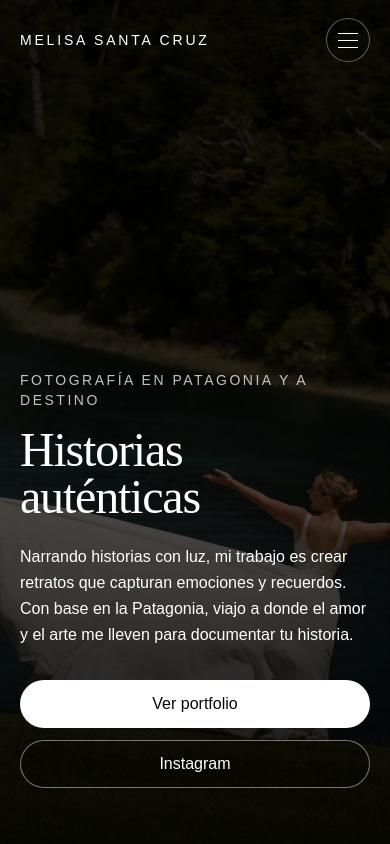
it: Hero › announces the mobile menu state
The image size is (390, 844).
Click the button named "abrir menu": coordinates (348, 40) [326,18,370,62]
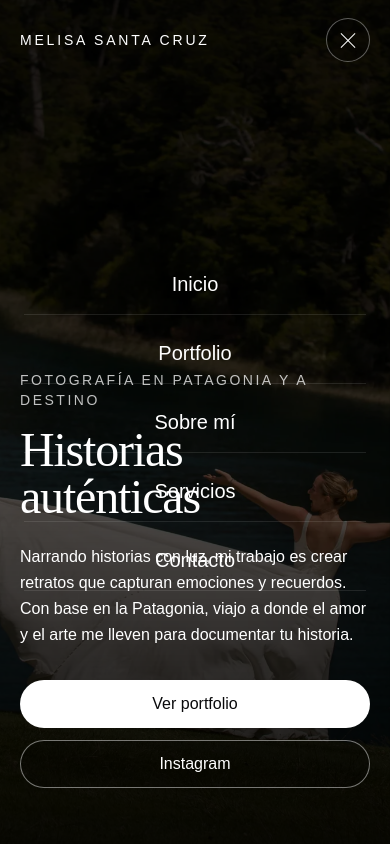
expect the button named "abrir menu" is expanded: met, box [326,18,370,62]
